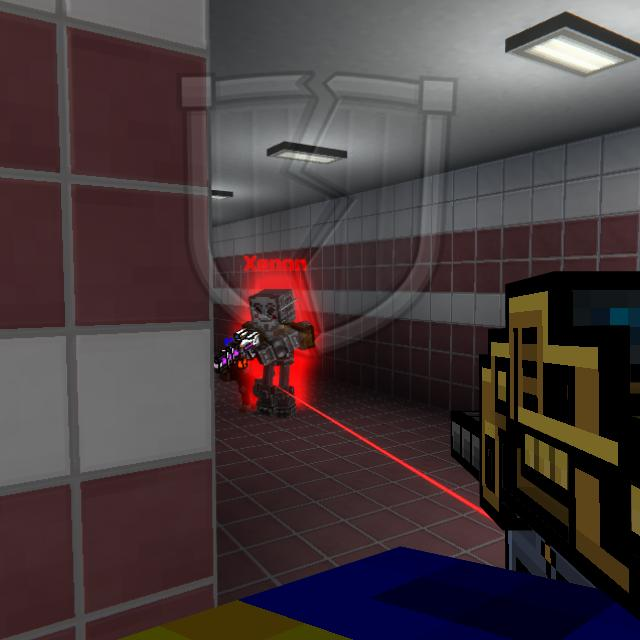Enemy: (233, 289, 316, 418)
